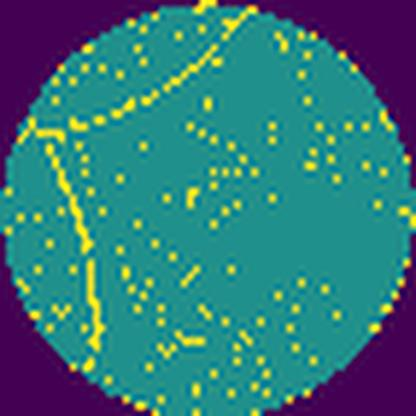Scratch: (17, 0, 257, 379)
